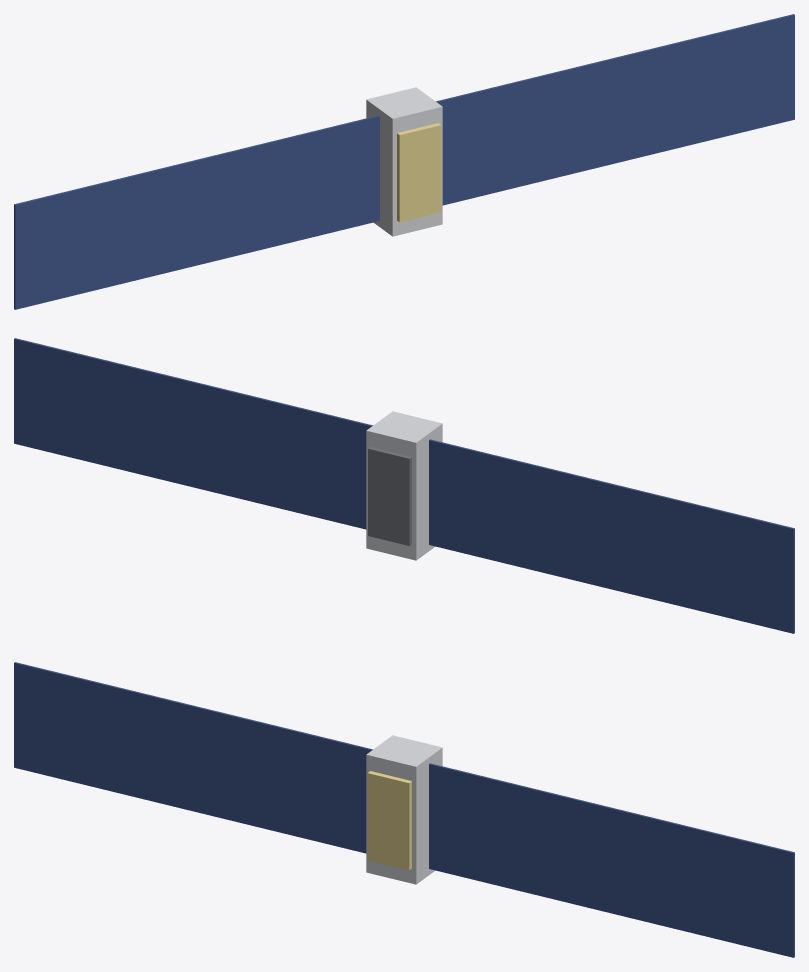
Rendered from galileo.glb.
3 views of the same model, one above another, from view 1: azimuth 30°, elevation 25°; view 2: azimuth 150°, elevation 25°; view 3: azimuth 330°, elevation 25° (orthographic).
Parts seen in each view (by area): view 1: solar, body, antenna; view 2: solar, body, service; view 3: solar, body, antenna.
Part boxes in pixels (left/top/right/bottom): solar: left=14, top=14, right=794, bottom=309; body: left=366, top=87, right=442, bottom=236; antenna: left=397, top=123, right=441, bottom=222; solar: left=14, top=338, right=794, bottom=633; body: left=366, top=411, right=442, bottom=560; service: left=368, top=447, right=411, bottom=545; solar: left=14, top=662, right=794, bottom=957; body: left=366, top=735, right=442, bottom=884; antenna: left=367, top=771, right=411, bottom=870.
Size of the model in its own units: 18.7 by 2.7 by 1.32.
